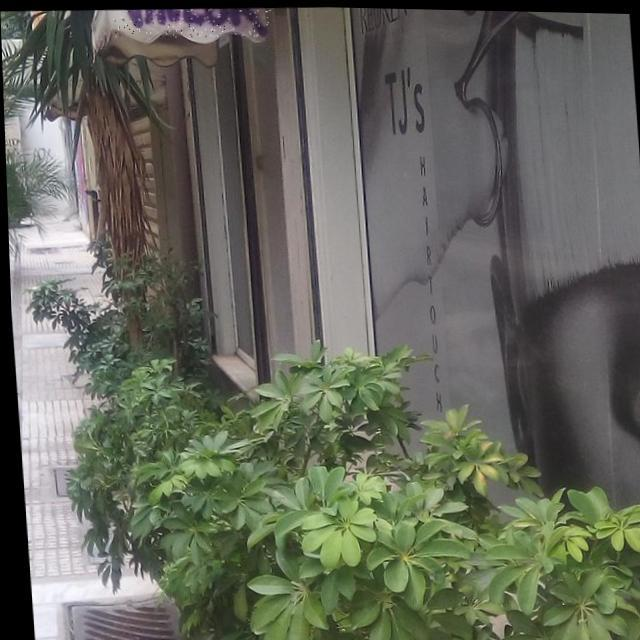-: (112, 4, 273, 41)
